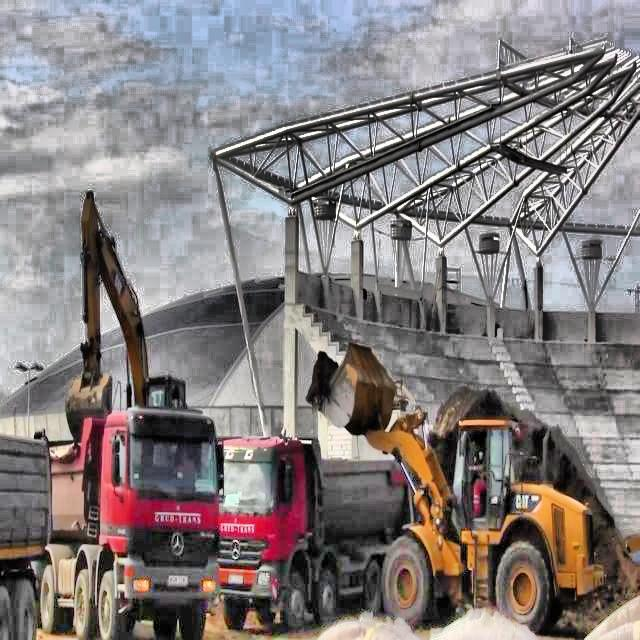bull_dozer/loader/grader: (306, 342, 606, 630)
dump_truck: (33, 404, 219, 640), (214, 428, 408, 626), (0, 431, 52, 637)
excavator: (60, 190, 192, 462)
